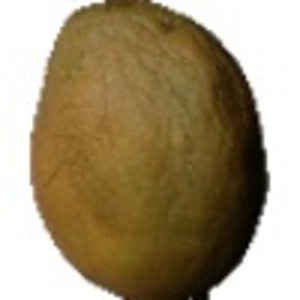mamão: (19, 2, 275, 294)
